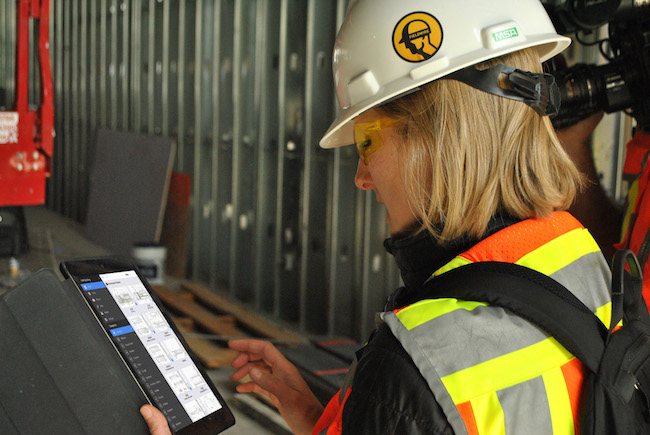Hard Hat: (313, 1, 571, 155)
